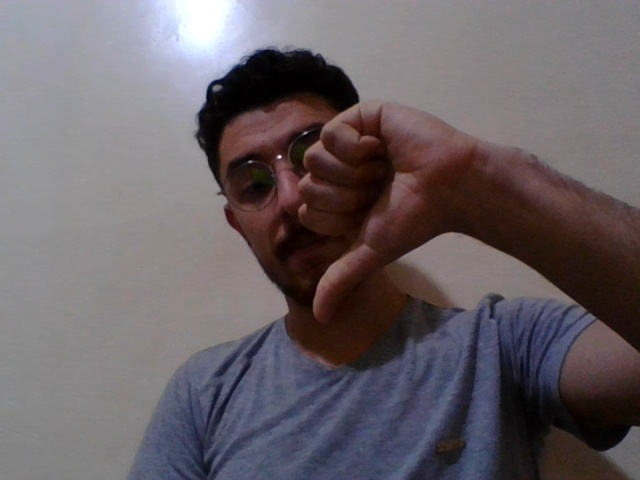No: (289, 83, 572, 339)
